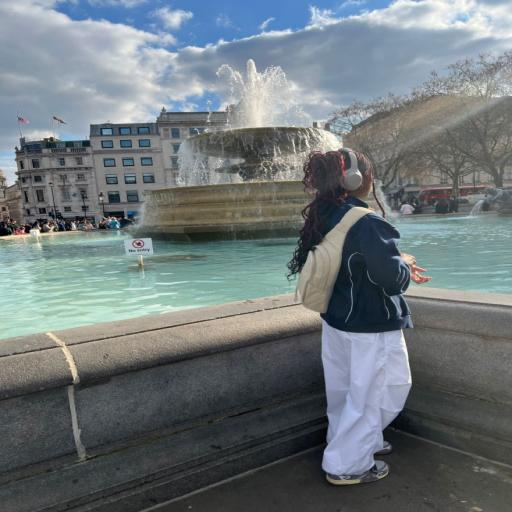bicycle: (407, 178, 503, 216)
door: (291, 202, 385, 318)
laptop: (285, 145, 433, 493)
